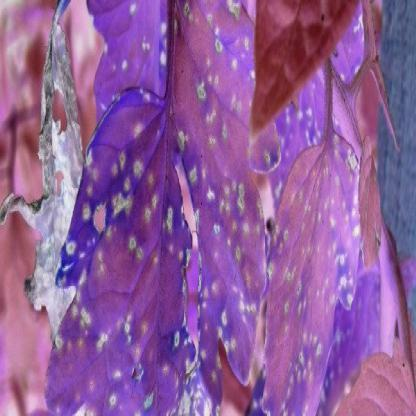Tomato Septoria leaf spot: (43, 7, 275, 414), (266, 120, 386, 414)
